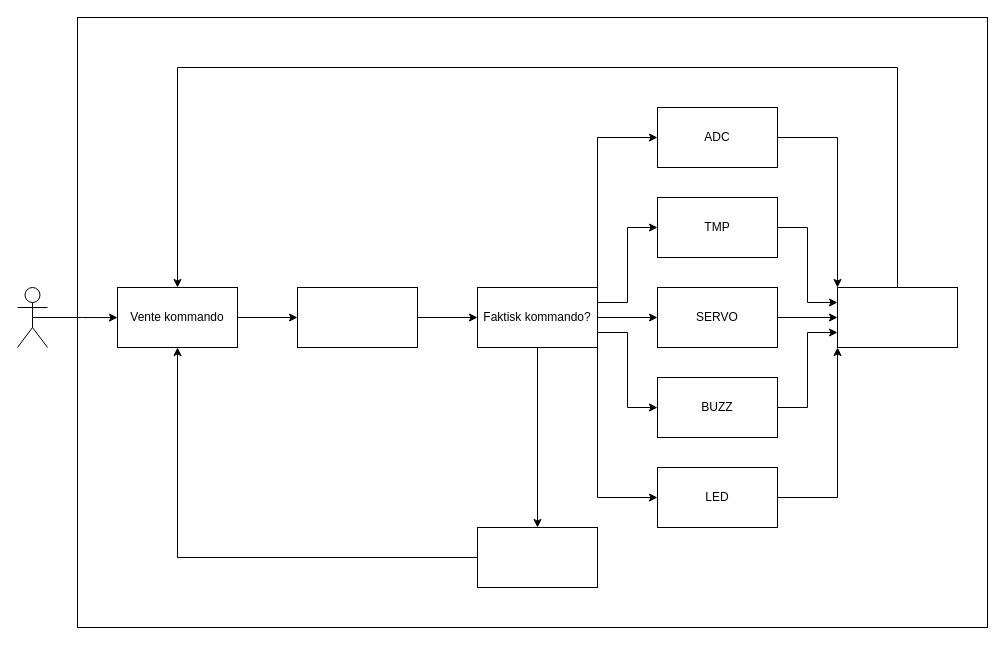
Some shapes in this 1005 by 645 pixel diagram are drawn without their labels. The centre of each missing label's shape, as x and y in pixels:
Actor: the point at 32,317
Motat kommando: the point at 357,317
Nei: the point at 537,557
Send svar: the point at 897,317
